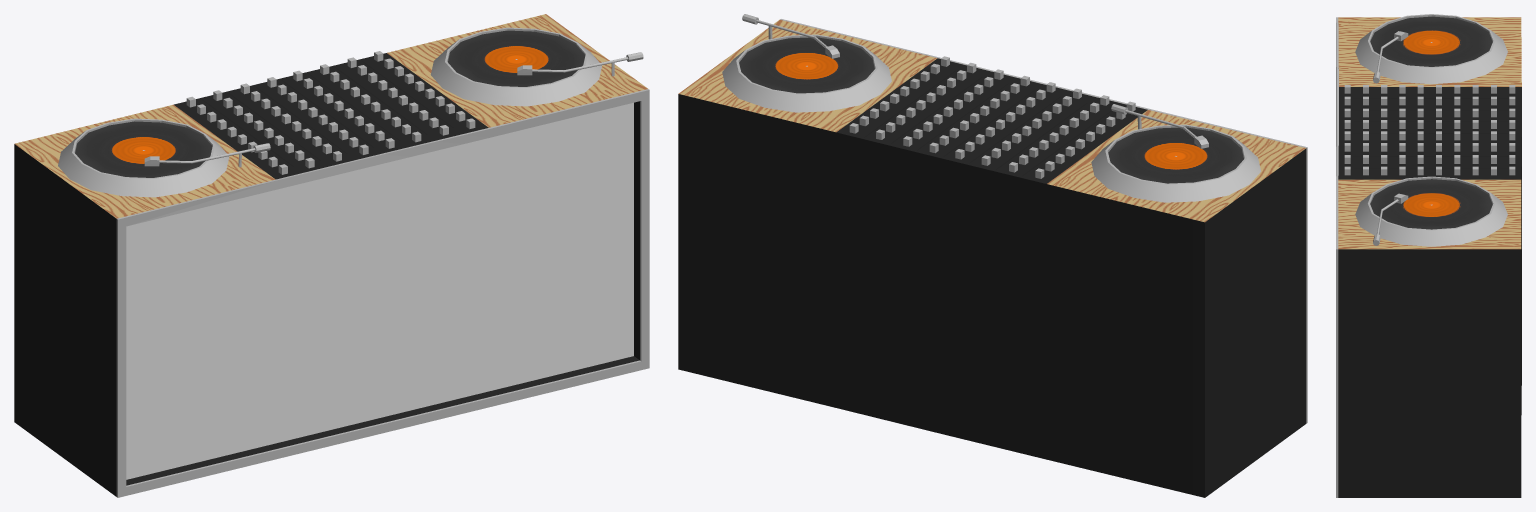
3 views of the same model, side by side, from view 1: azimuth 30°, elevation 25°; view 2: azimuth 150°, elevation 25°; view 3: azimuth 270°, elevation 25° (orthographic). The views are drawn at different scales.
Parts seen in each view (by area): view 1: Light, DJ base, Frame, Switches, Disc, Disc001, Disc Frame, Disc Frame001; view 2: DJ base, Switches, Disc, Disc001, Disc Frame, Disc Frame001, Frame; view 3: DJ base, Switches, Disc, Disc001, Disc Frame001, Disc Frame, Frame, Dj thingy001, Dj thingy.
Part boxes in pixels (bbox=[...]): Light: bbox=[126, 102, 633, 479]; DJ base: bbox=[14, 14, 647, 496]; Frame: bbox=[116, 89, 649, 497]; Switches: bbox=[186, 51, 475, 174]; Disc: bbox=[448, 30, 585, 86]; Disc001: bbox=[75, 121, 212, 177]; Disc Frame: bbox=[430, 27, 602, 106]; Disc Frame001: bbox=[58, 118, 229, 197]; DJ base: bbox=[678, 19, 1306, 497]; Switches: bbox=[849, 56, 1135, 178]; Disc: bbox=[739, 37, 874, 93]; Disc001: bbox=[1108, 127, 1243, 183]; Disc Frame: bbox=[722, 34, 891, 112]; Disc Frame001: bbox=[1091, 124, 1260, 202]; Frame: bbox=[780, 19, 1307, 423]; DJ base: bbox=[1338, 17, 1521, 497]; Switches: bbox=[1344, 85, 1515, 175]; Disc: bbox=[1370, 179, 1492, 229]; Disc001: bbox=[1370, 16, 1492, 66]; Disc Frame001: bbox=[1355, 14, 1507, 84]; Disc Frame: bbox=[1355, 176, 1507, 246]; Frame: bbox=[1336, 17, 1338, 497]; Dj thingy001: bbox=[1373, 31, 1408, 83]; Dj thingy: bbox=[1373, 193, 1408, 245].
Size of the model in its own units: 243 by 126 by 79.97.
3 materials, 3 textured.
